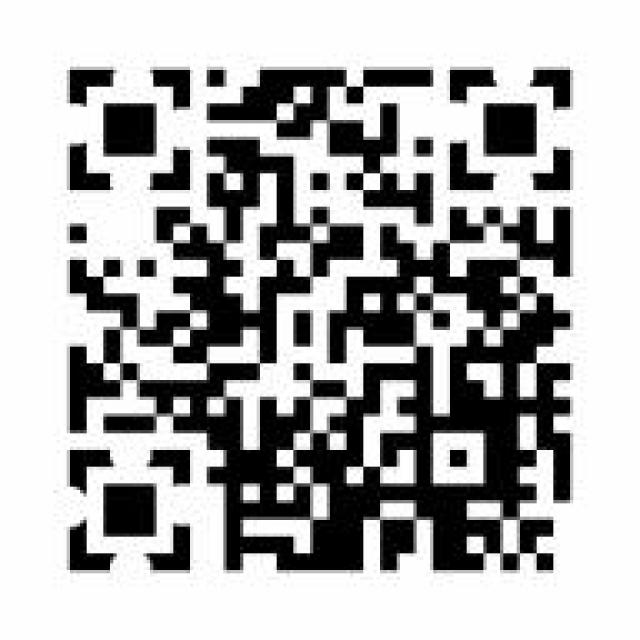QR_CODE: (46, 53, 592, 592)
